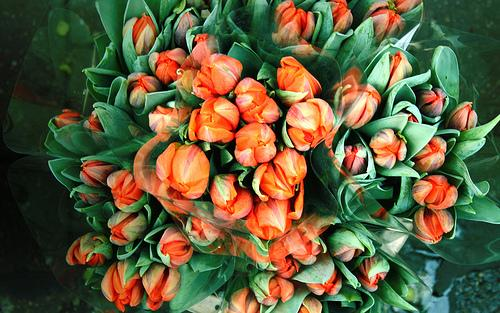tulip: (158, 143, 209, 198), (188, 96, 240, 145), (286, 99, 334, 151), (193, 49, 241, 94), (235, 123, 275, 164), (236, 123, 278, 162)
